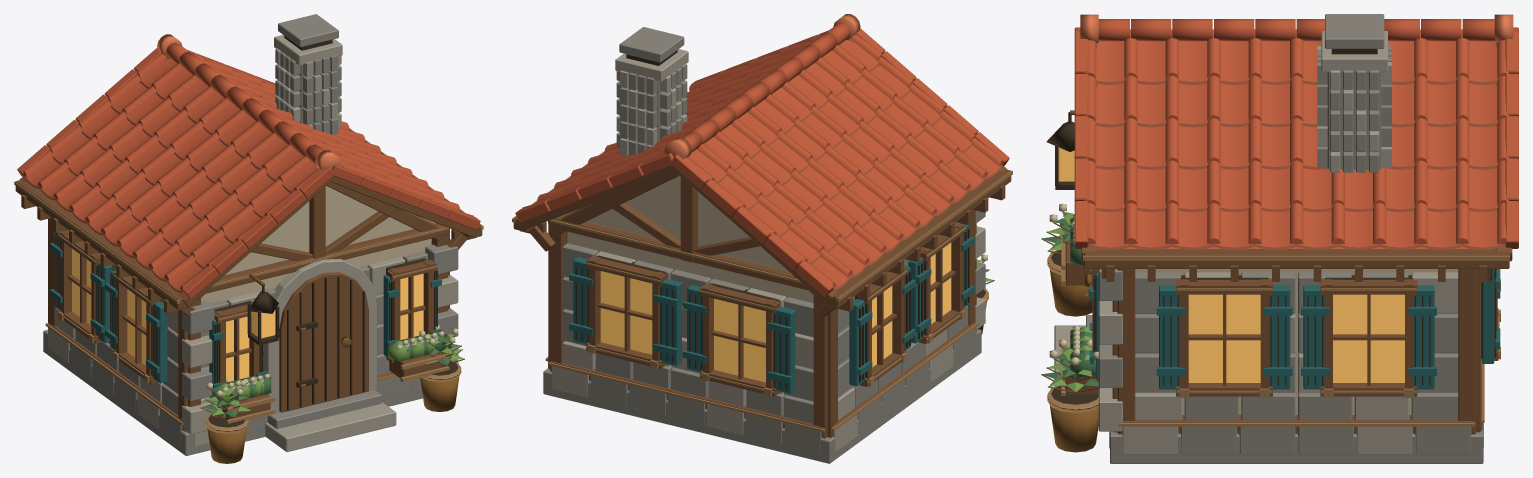
3 renders of one model, left to right at view 1: azimuth 30°, elevation 25°; view 2: azimuth 150°, elevation 25°; view 3: azimuth 270°, elevation 25°, orthographic. The views are drawn at different scales.
Parts seen in each view (by area): view 1: alpine_tower_1_geometry, alpine_tower_1_geometry ceramic; view 2: alpine_tower_1_geometry, alpine_tower_1_geometry ceramic; view 3: alpine_tower_1_geometry, alpine_tower_1_geometry ceramic.
Boxes of the visible parts, x1,y1,x2,y2 form: alpine_tower_1_geometry: (14, 14, 483, 463); alpine_tower_1_geometry ceramic: (17, 34, 480, 299); alpine_tower_1_geometry: (512, 27, 1012, 463); alpine_tower_1_geometry ceramic: (515, 14, 1009, 296); alpine_tower_1_geometry: (1041, 14, 1512, 463); alpine_tower_1_geometry ceramic: (1074, 14, 1518, 250).
Bounding box in the file's own units: 0.818 × 0.78 × 0.8349.
